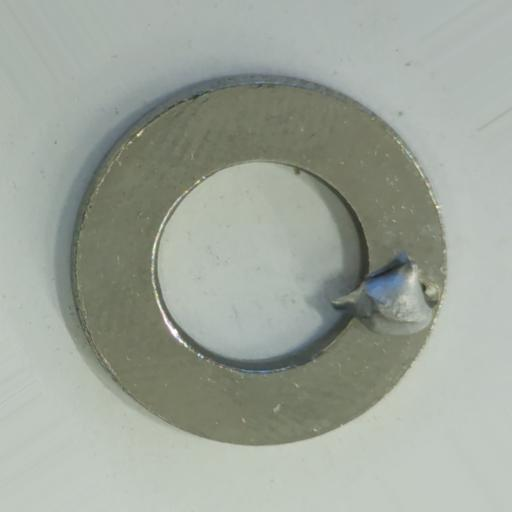excess_material: (327, 249, 441, 336)
